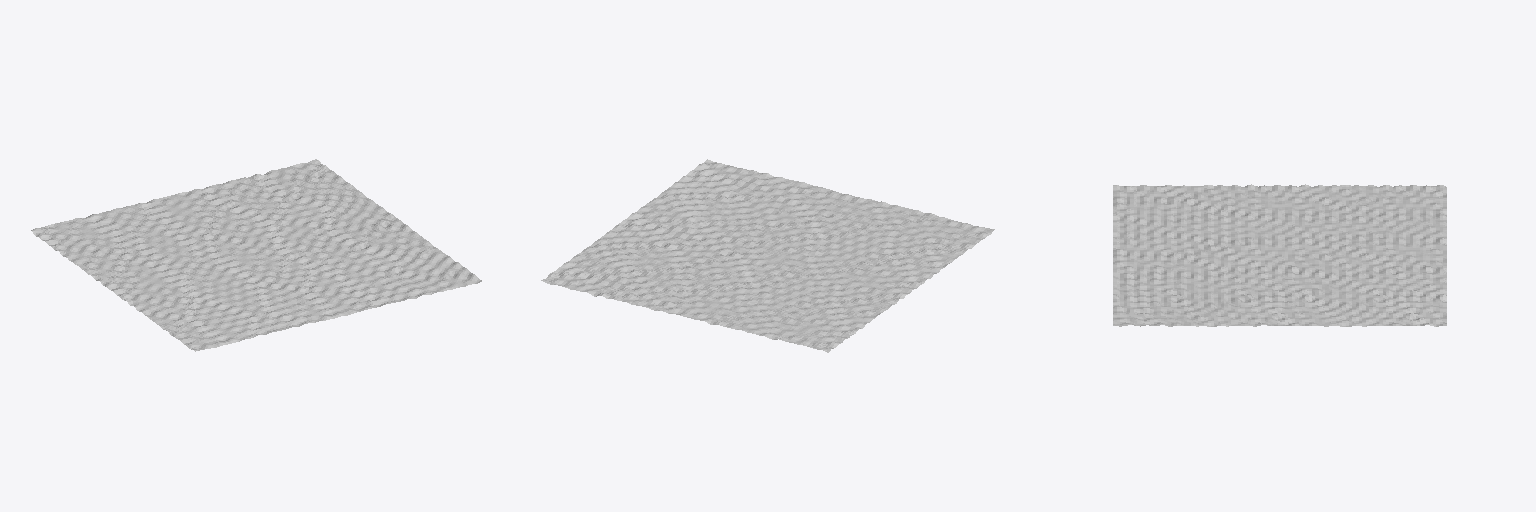
The model's file is water.obj.
The picture shows the model from 3 angles: view 1: azimuth 30°, elevation 25°; view 2: azimuth 150°, elevation 25°; view 3: azimuth 270°, elevation 25°; orthographic projection.
Size of the model in its own units: 4.95 by 0.0569 by 4.95.